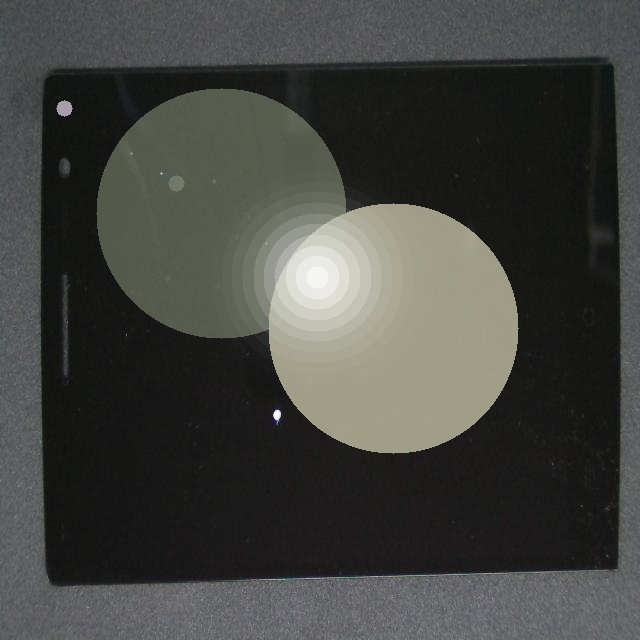stain: (103, 263, 419, 640)
